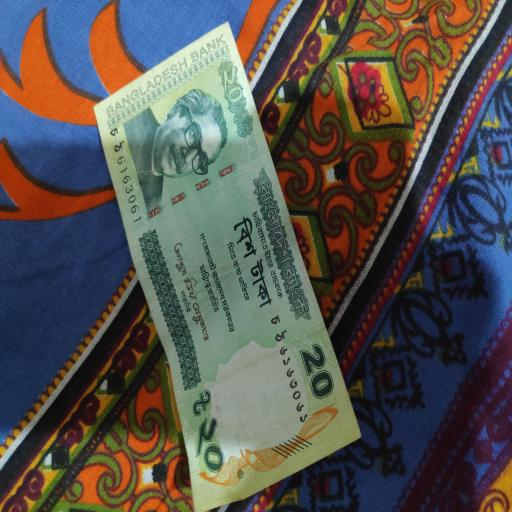20taka: (94, 25, 362, 506)
